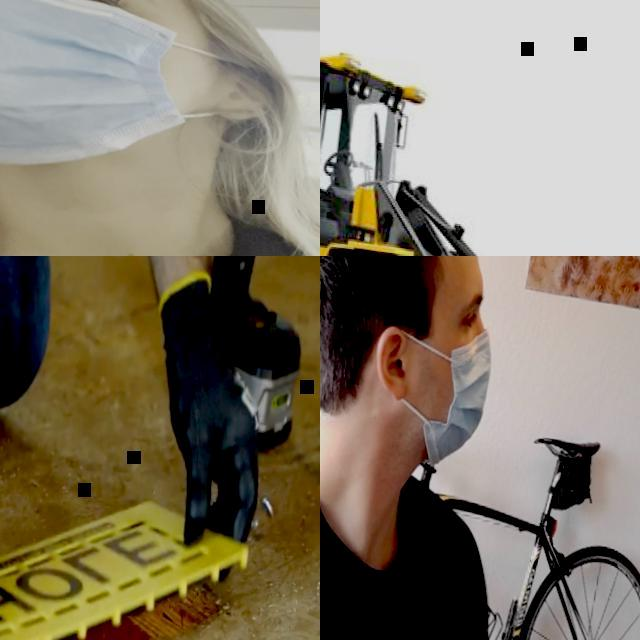machinery: (320, 27, 640, 256)
mask: (0, 0, 258, 202), (388, 317, 498, 481)
no_vest: (320, 461, 479, 640), (0, 169, 320, 256)
person: (0, 256, 297, 640), (320, 256, 585, 640), (0, 0, 320, 256)
